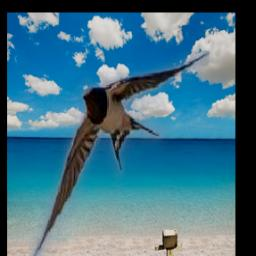Swallow: (29, 52, 211, 256)
